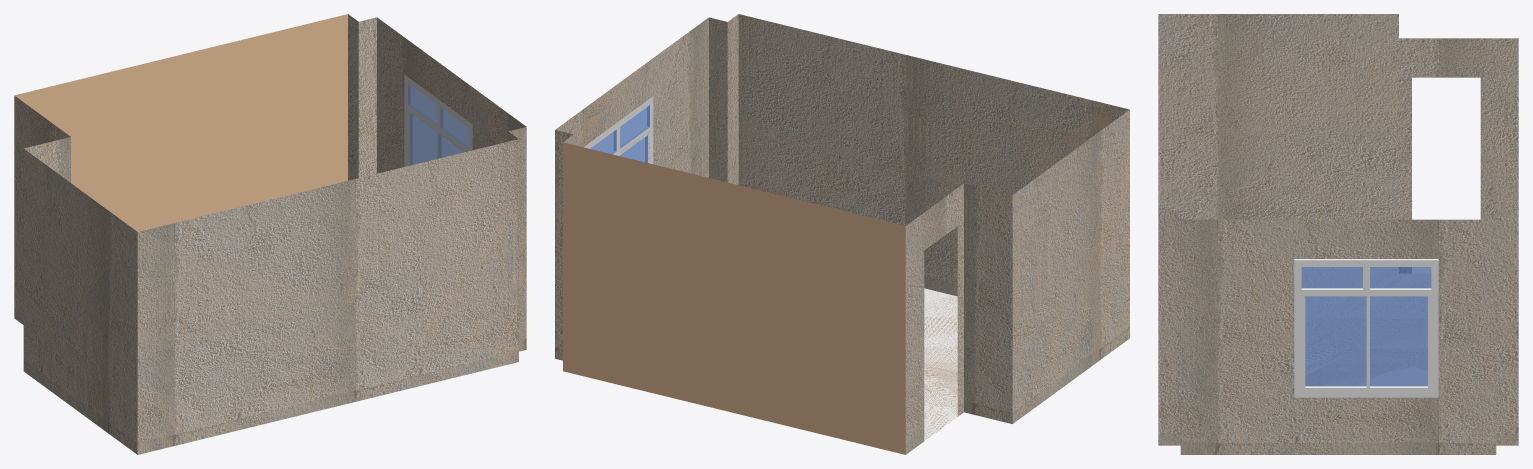
The model's file is DES016.obj.
The picture shows the model from 3 angles, left to right: view 1: azimuth 30°, elevation 25°; view 2: azimuth 150°, elevation 25°; view 3: azimuth 270°, elevation 25°; orthographic projection. The views are drawn at different scales.
Parts seen in each view (by area): view 1: Mesh9 DES016 Model, Mesh1 ventana5_1 DES016 Model; view 2: Mesh9 DES016 Model, Mesh1 ventana5_1 DES016 Model; view 3: Mesh9 DES016 Model, Mesh1 ventana5_1 DES016 Model.
Boxes of the visible parts, x1,y1,x2,y2 form: Mesh9 DES016 Model: (14, 14, 526, 454); Mesh1 ventana5_1 DES016 Model: (404, 74, 472, 166); Mesh9 DES016 Model: (555, 14, 1129, 454); Mesh1 ventana5_1 DES016 Model: (584, 96, 653, 164); Mesh9 DES016 Model: (1158, 14, 1518, 454); Mesh1 ventana5_1 DES016 Model: (1294, 259, 1438, 397).
Bounding box in the file's own units: 6.8 × 3.6 × 5.
Materials: 6 (2 with a texture image).
